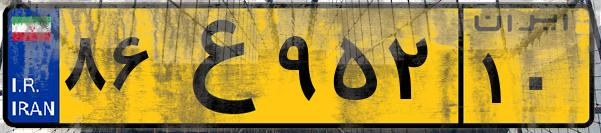0: (525, 38, 570, 115)
1: (475, 38, 525, 113)
2: (385, 28, 445, 110)
5: (330, 28, 385, 110)
6: (110, 28, 158, 98)
8: (57, 26, 110, 100)
9: (270, 28, 330, 110)
ع: (158, 12, 270, 120)
